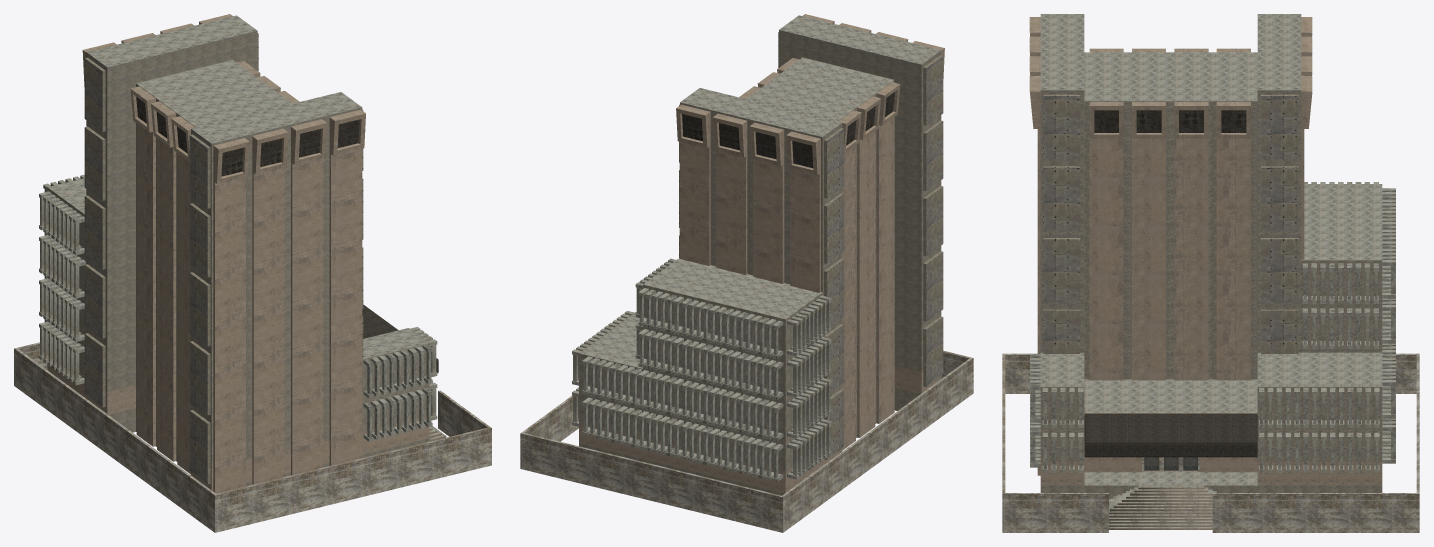
File: office.FBX
3 views of the same model, side by side, from view 1: azimuth 30°, elevation 25°; view 2: azimuth 150°, elevation 25°; view 3: azimuth 270°, elevation 25° (orthographic). The views are drawn at different scales.
Visible parts, largest first — view 1: office; view 2: office; view 3: office.
Boxes of the visible parts, box(x1,y1,x2,y2) form: office: box(14, 14, 491, 532); office: box(520, 14, 973, 532); office: box(1002, 14, 1419, 532).
Size of the model in its own units: 616 by 790 by 774.
